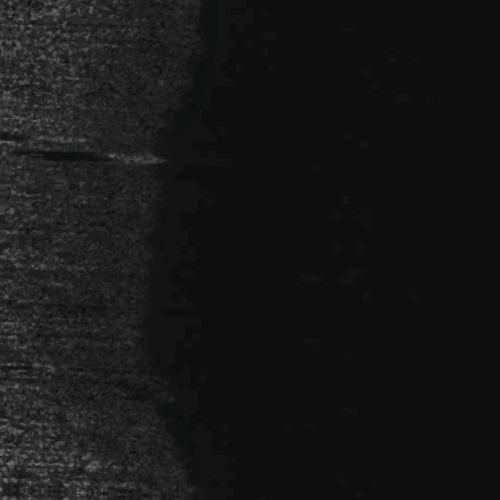object: (22, 141, 85, 148)
shadow: (0, 141, 54, 148)
